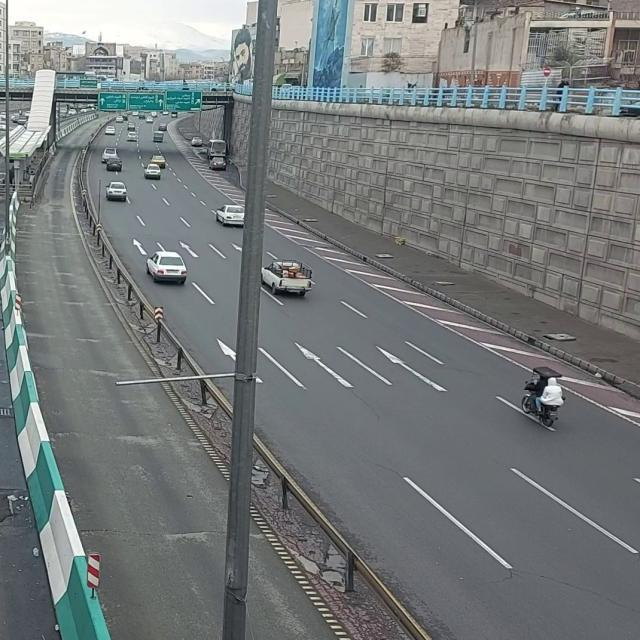Car: (144, 251, 188, 287), (215, 204, 245, 230), (106, 182, 129, 202), (208, 156, 227, 172), (144, 163, 162, 179), (106, 157, 124, 173)
Motorcycle: (520, 363, 566, 426)
Pickup: (261, 258, 313, 296)
